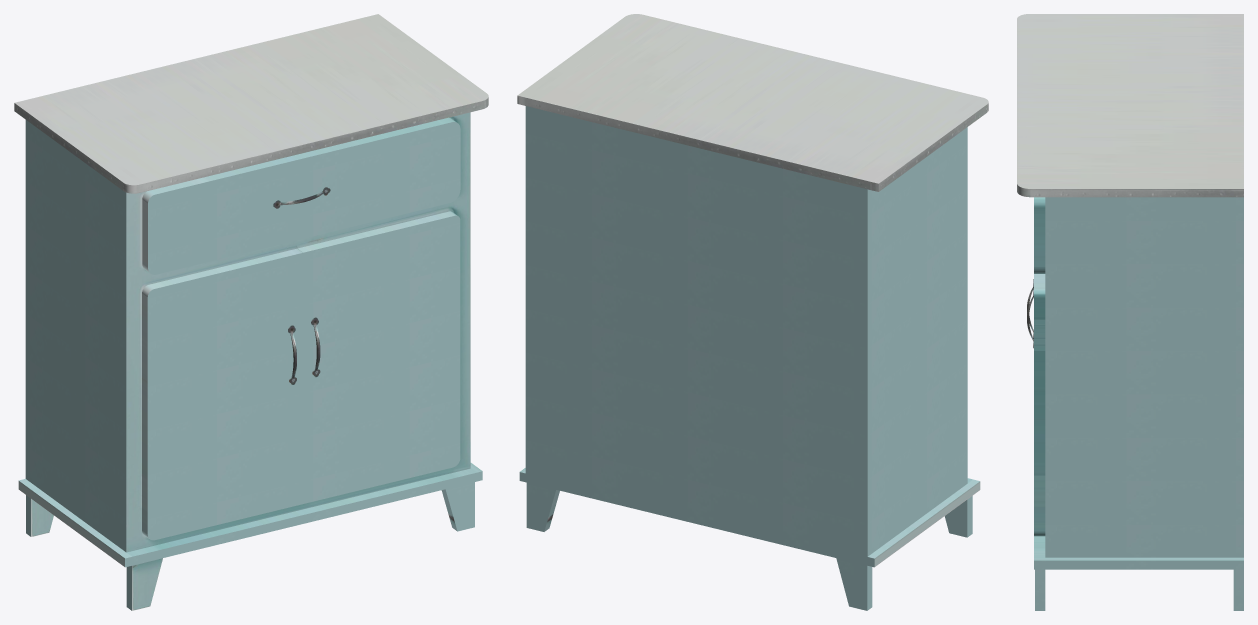
The model's file is Counter_Kitchen.FBX.
3 views of the same model, side by side, from view 1: azimuth 30°, elevation 25°; view 2: azimuth 150°, elevation 25°; view 3: azimuth 270°, elevation 25° (orthographic).
Visible parts, largest first — view 1: Counter; view 2: Counter; view 3: Counter.
Boxes of the visible parts, x1,y1,x2,y2 form: Counter: (14, 14, 488, 610); Counter: (517, 14, 988, 610); Counter: (1017, 14, 1243, 610).
Size of the model in its own units: 49.09 by 55.82 by 26.9.
Materials: 7 (6 with a texture image).
